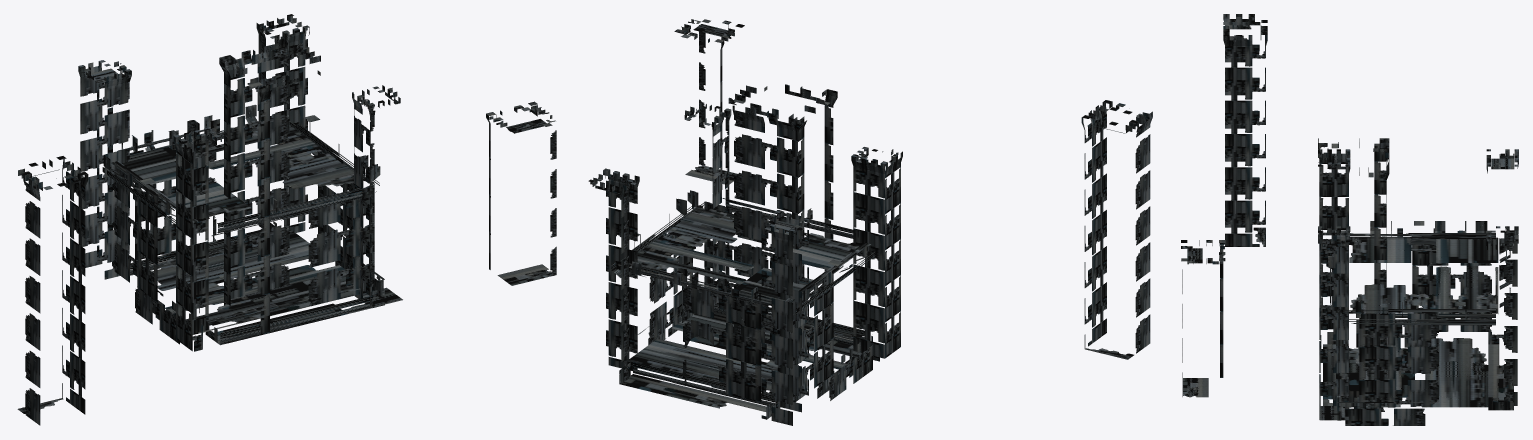
The model's file is castle.fbx.
3 renders of one model, left to right at view 1: azimuth 30°, elevation 25°; view 2: azimuth 150°, elevation 25°; view 3: azimuth 270°, elevation 25°, orthographic. The views are drawn at different scales.
Visible parts, largest first — view 1: Castle; view 2: Castle; view 3: Castle.
Boxes of the visible parts, left/top/right/bottom form: Castle: left=17, top=14, right=556, bottom=425; Castle: left=588, top=19, right=1152, bottom=425; Castle: left=1181, top=14, right=1518, bottom=425.
Bounding box in the file's own units: 4500 × 2307 × 3004.
Materials: 1 (1 with a texture image).
